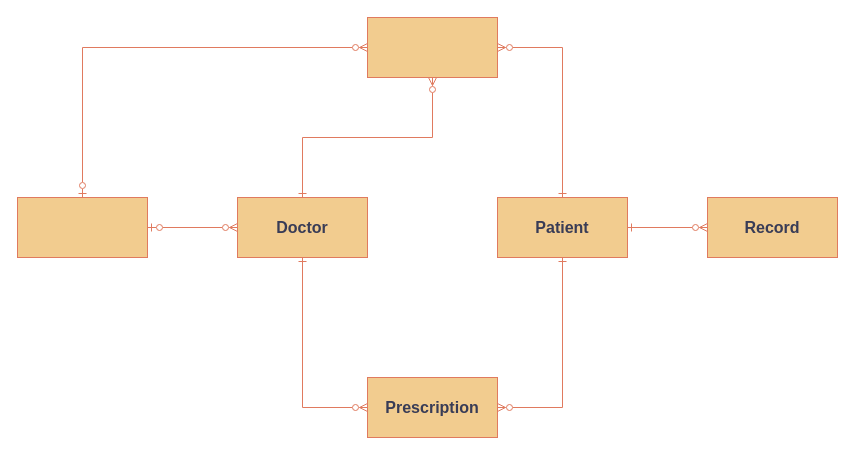
This 855x455 diagram has some shape labels left out. The shapes that lost their labels are listed below. From the top down, each one's centre as x and y in pixels, then its label:
(x=432, y=47): Appointment
(x=82, y=227): Medical Facility
